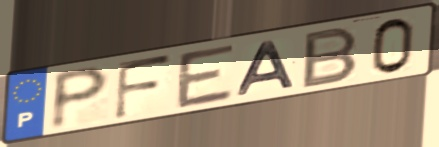0: (370, 16, 418, 76)
A: (234, 38, 299, 98)
B: (298, 24, 361, 91)
E: (173, 41, 238, 112)
F: (111, 53, 175, 122)
P: (47, 65, 113, 133)
